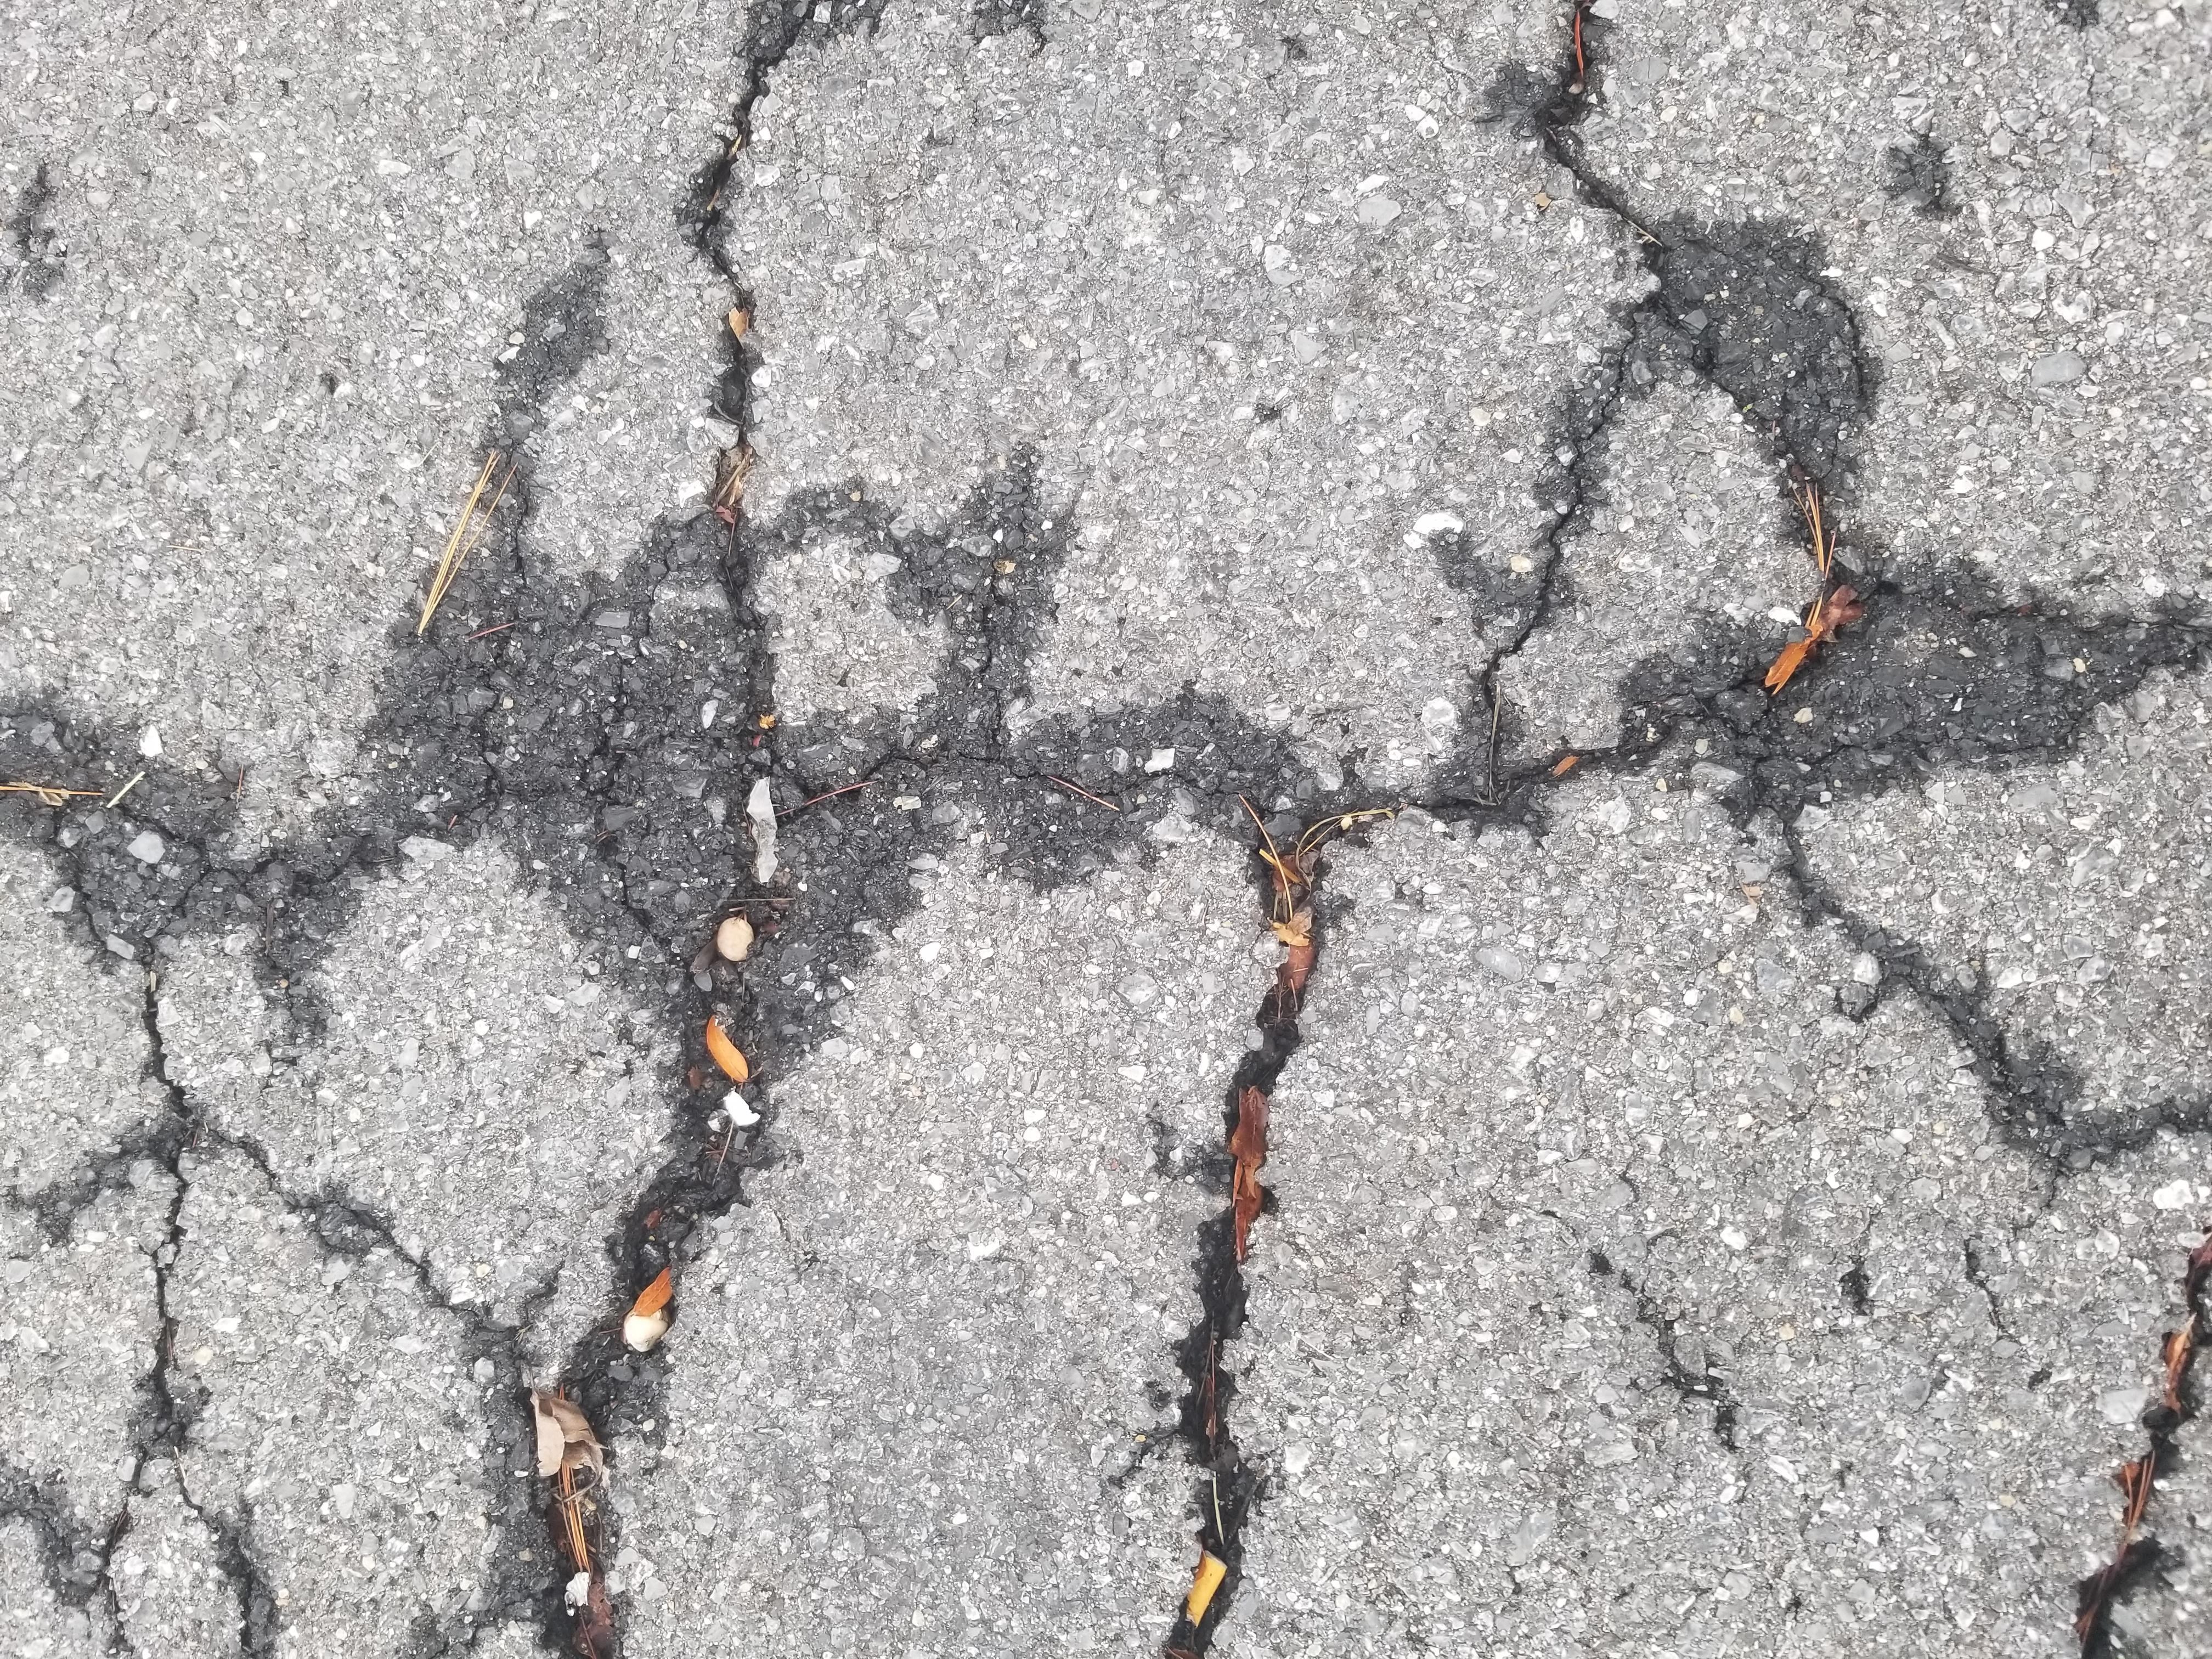alligator-crack: (75, 71, 2148, 1654)
